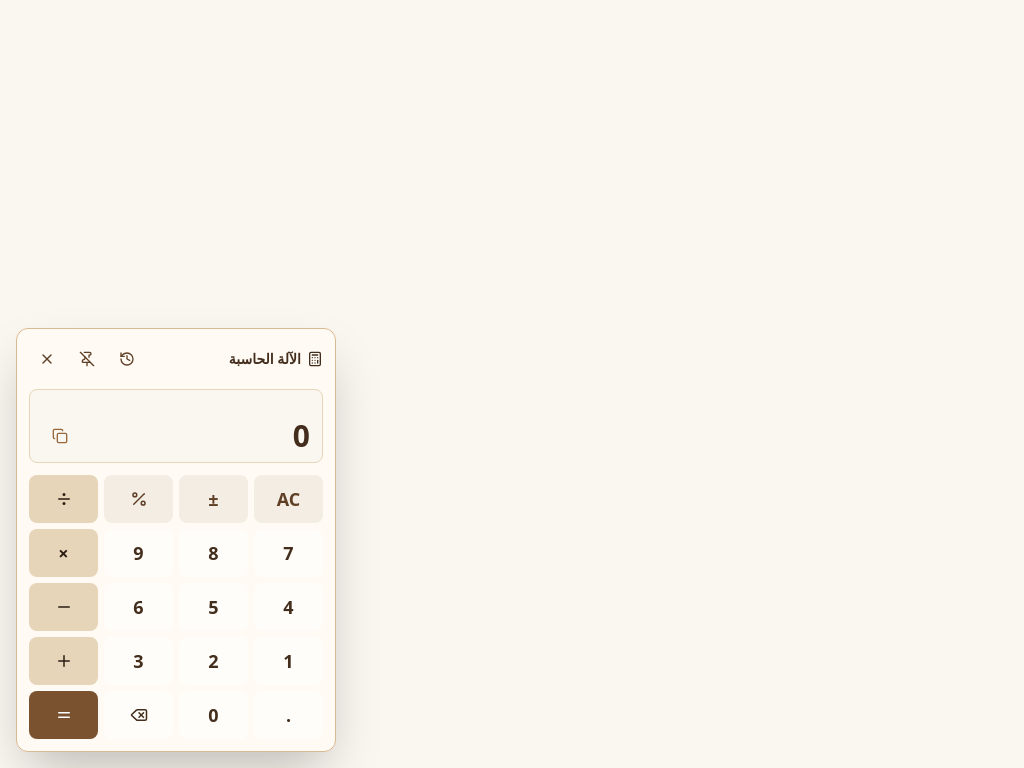
Test case: PosCalculator — arithmetic through the UI › computes 5 + 3 = 8 and shows the result
Click the button "5" at (214, 607), box 179,583 -> 248,631
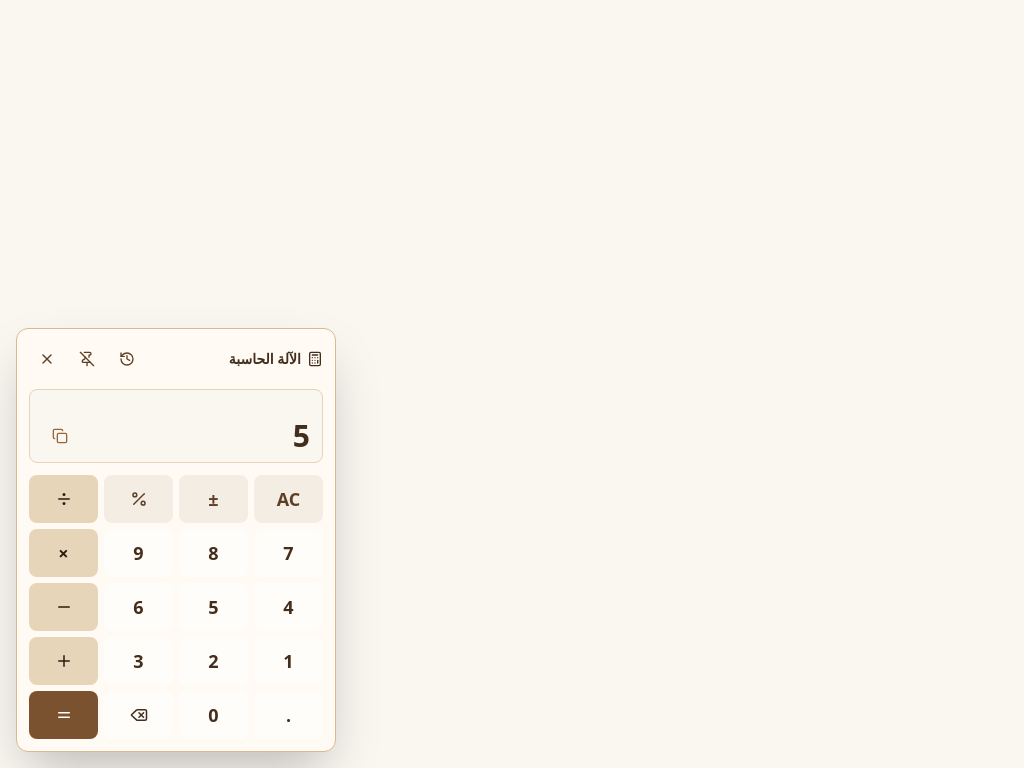
Click the button with test id "calc-add" at (64, 661), box 29,637 -> 98,685
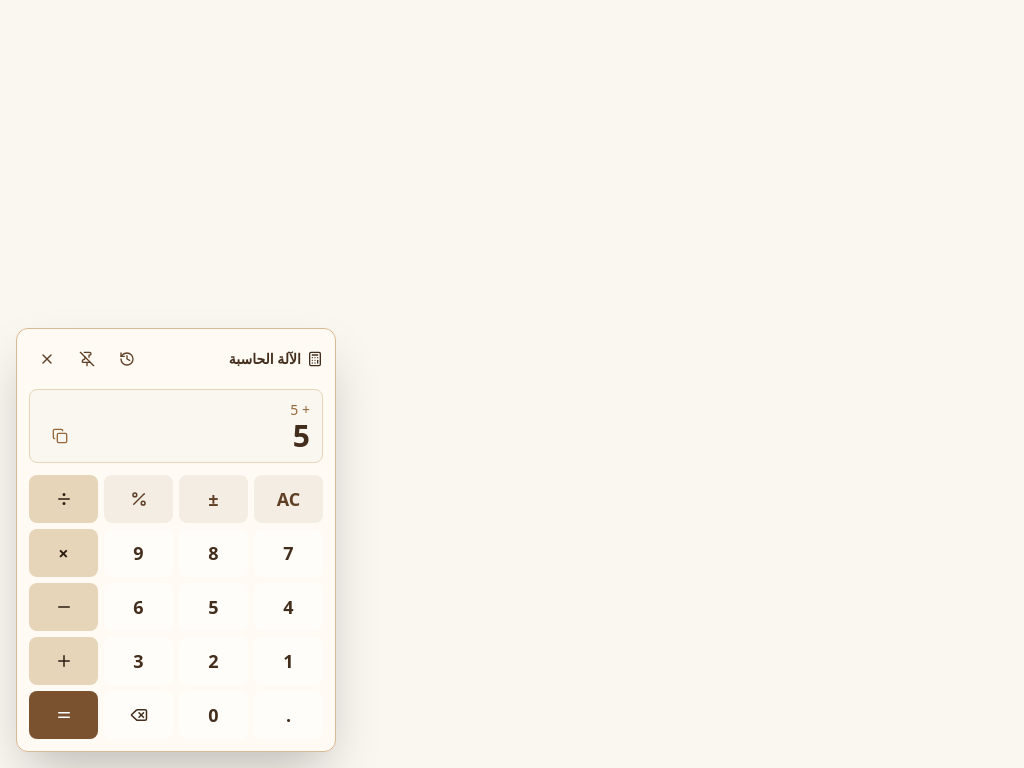
Click the button "3" at (138, 661), box 104,637 -> 173,685
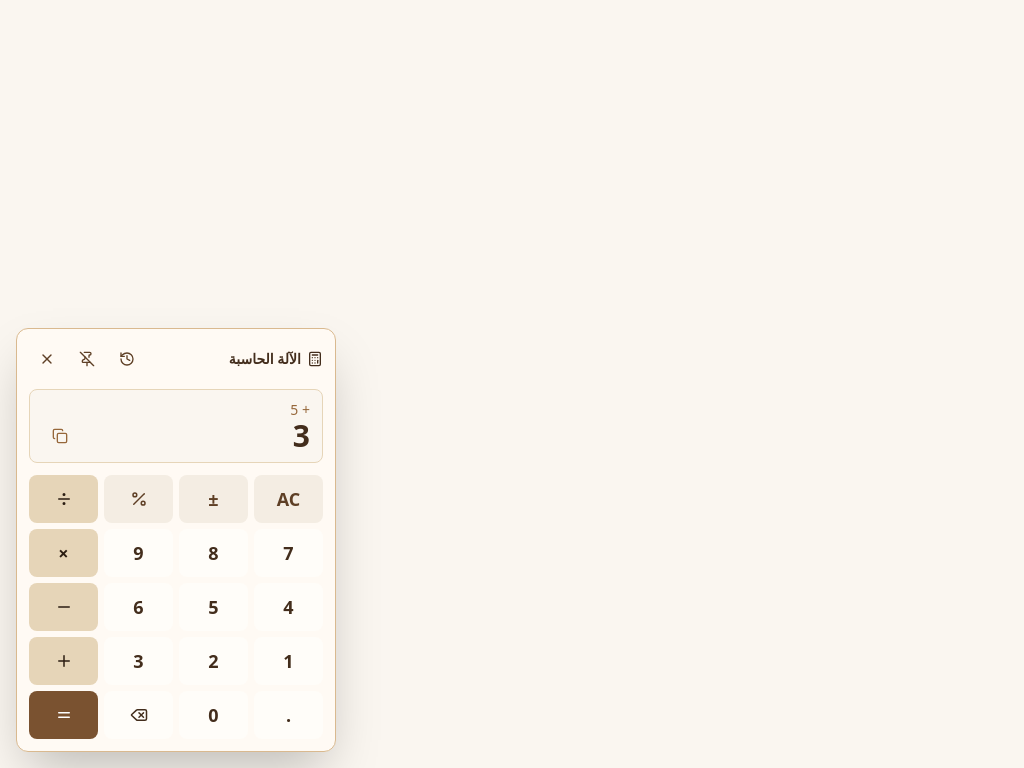
Click the button with test id "calc-equals" at (64, 715), box 29,691 -> 98,739
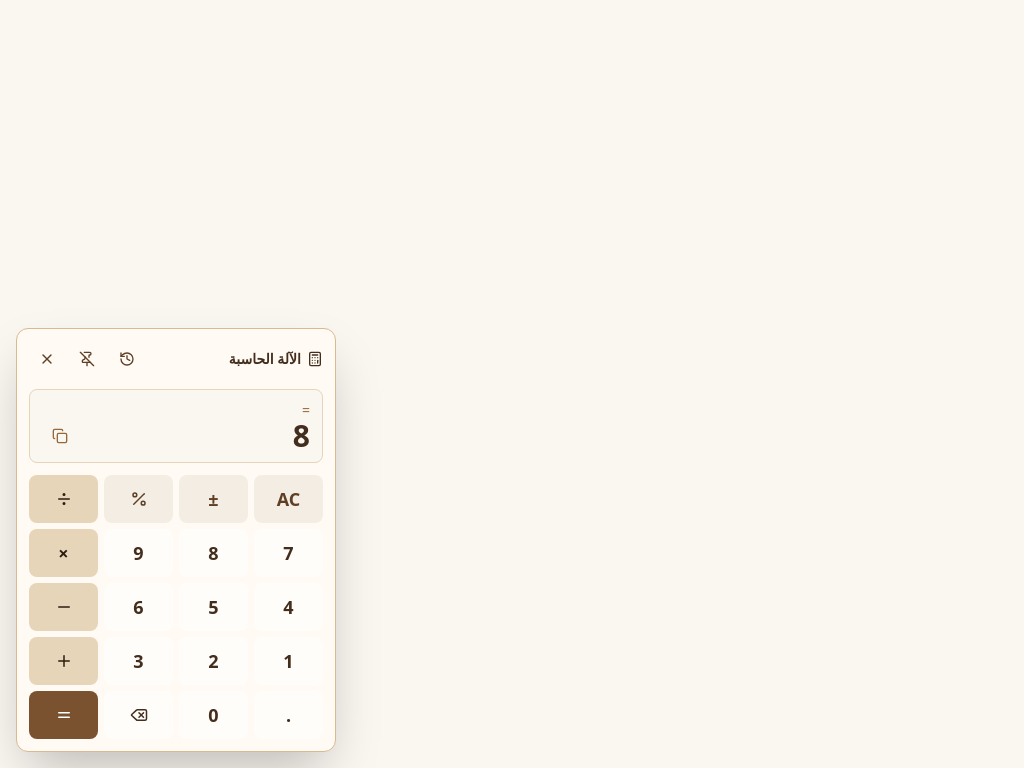
Now the text with test id "calc-display" reads "8", box 293,415 -> 310,456
